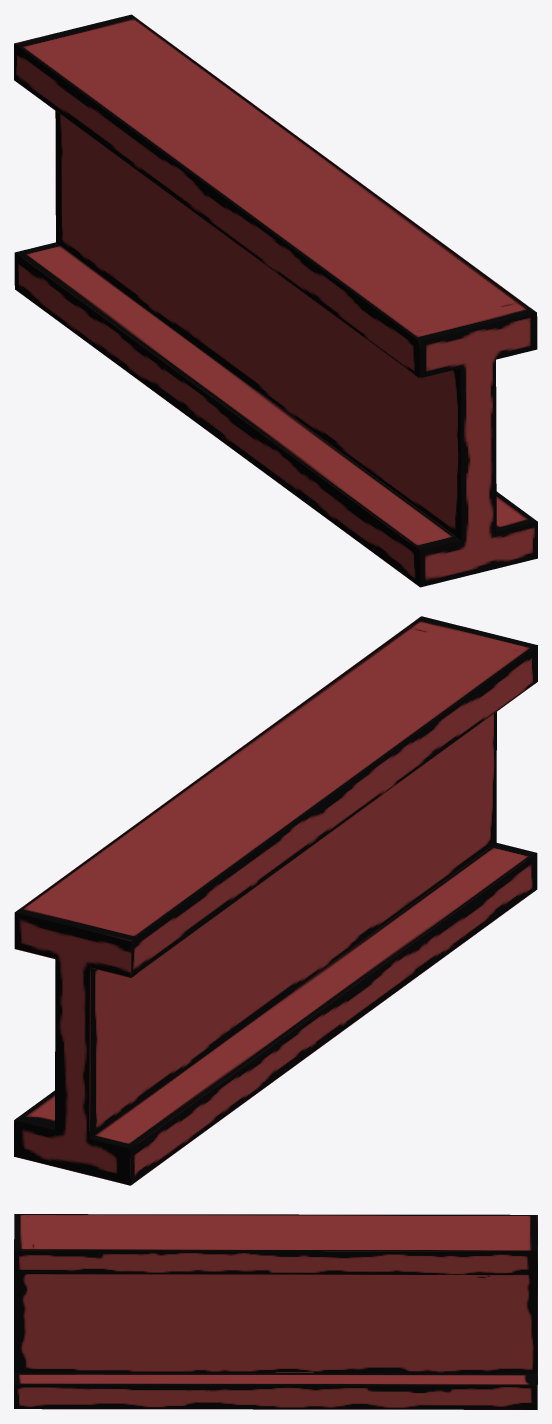
The model's file is Beam.glb.
The picture shows the model from 3 angles, top to bottom: view 1: azimuth 30°, elevation 25°; view 2: azimuth 150°, elevation 25°; view 3: azimuth 270°, elevation 25°; orthographic projection. The views are drawn at different scales.
Parts seen in each view (by area): view 1: LavaParts.001; view 2: LavaParts.001; view 3: LavaParts.001.
Part boxes in pixels (box(x1,y1,x2,y2)): LavaParts.001: box(14, 14, 537, 587); LavaParts.001: box(14, 616, 537, 1185); LavaParts.001: box(14, 1214, 537, 1409).
Bounding box in the file's own units: 1.8 × 3.53 × 10.56.
1 material, 1 textured.
